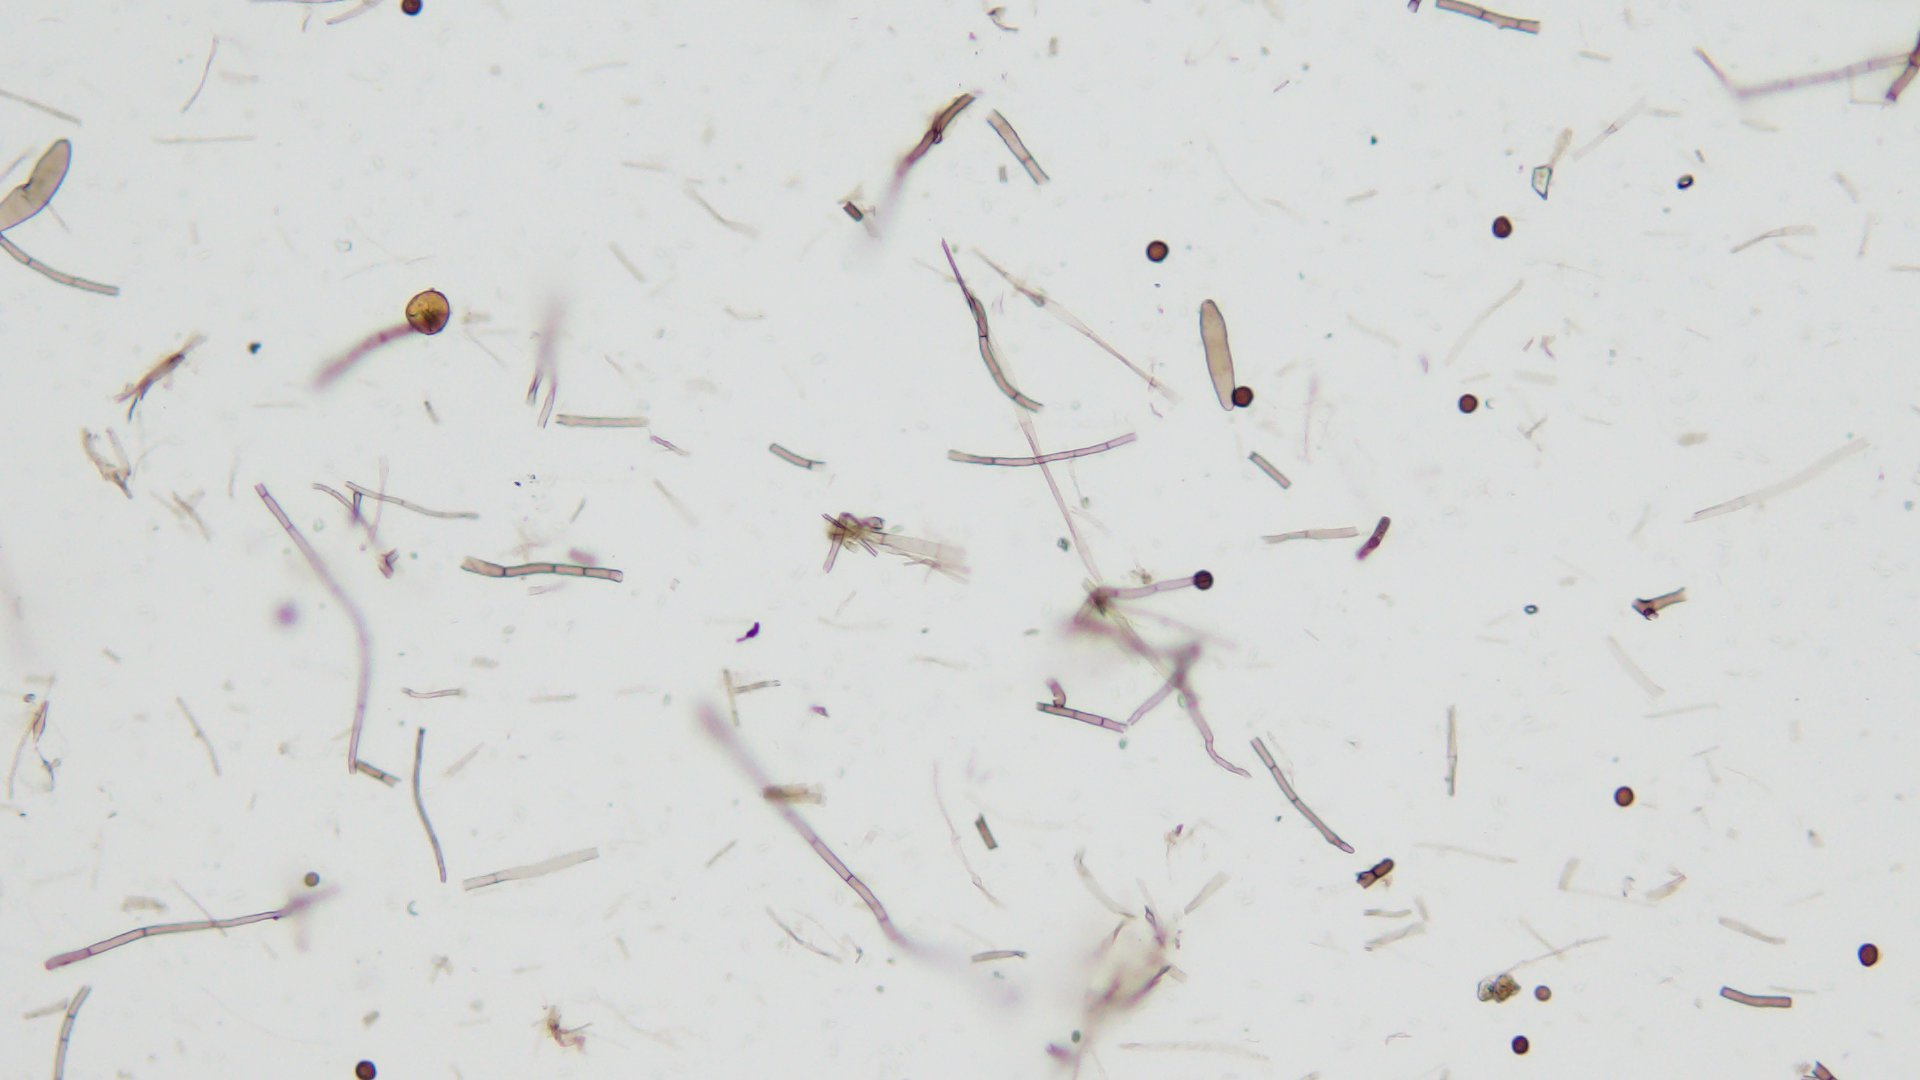dbb_spore: (3, 138, 73, 245), (1197, 297, 1238, 411)
shs_spore: (1232, 382, 1255, 409), (1857, 942, 1880, 965), (1145, 241, 1168, 262), (1193, 570, 1215, 592), (1458, 393, 1481, 414), (1615, 785, 1636, 807), (353, 1062, 378, 1080), (1509, 1035, 1534, 1054), (1490, 216, 1511, 237)
xb_spore: (401, 290, 452, 338)
